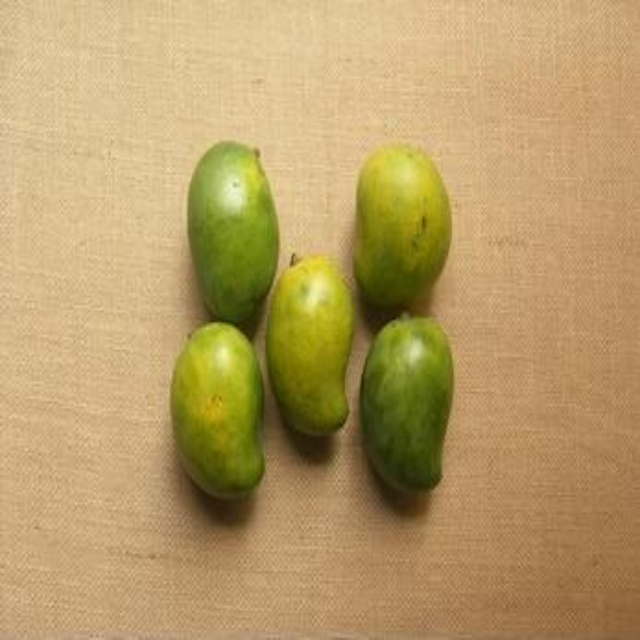mango: (167, 128, 288, 316), (357, 314, 463, 494), (265, 259, 362, 437), (344, 147, 453, 304), (176, 326, 263, 504)
